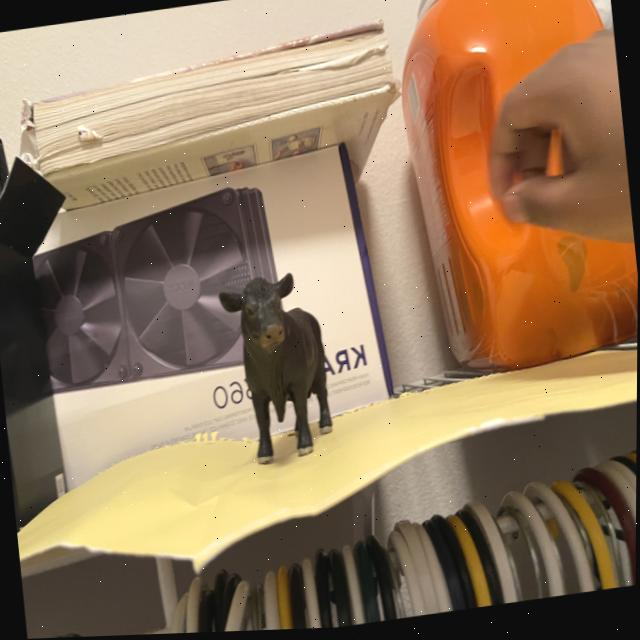cow: (217, 268, 347, 468)
